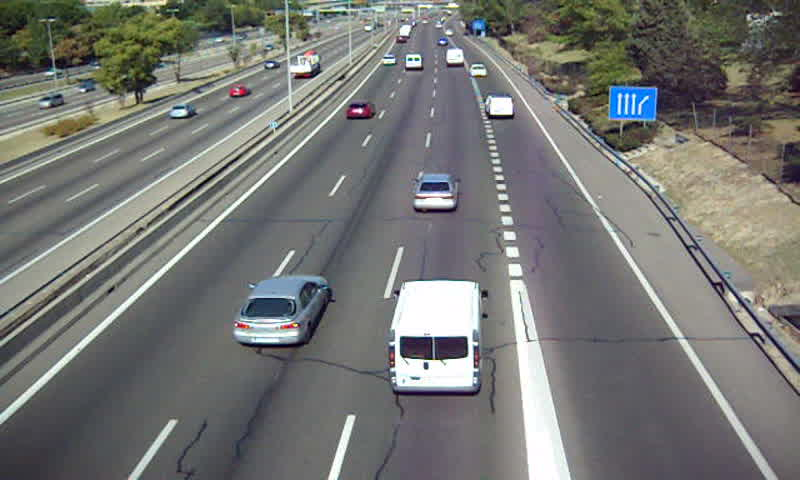car: (235, 274, 329, 347), (414, 174, 458, 209), (345, 102, 375, 119), (470, 63, 489, 78), (380, 53, 397, 65)
van: (389, 280, 484, 396), (487, 94, 514, 119), (447, 48, 464, 68), (404, 52, 422, 70)
